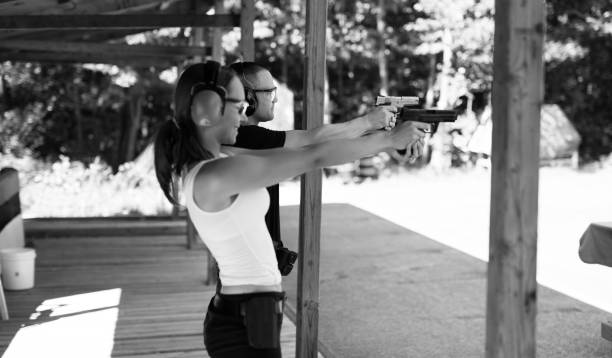gun: (393, 106, 459, 132), (374, 95, 420, 116)
